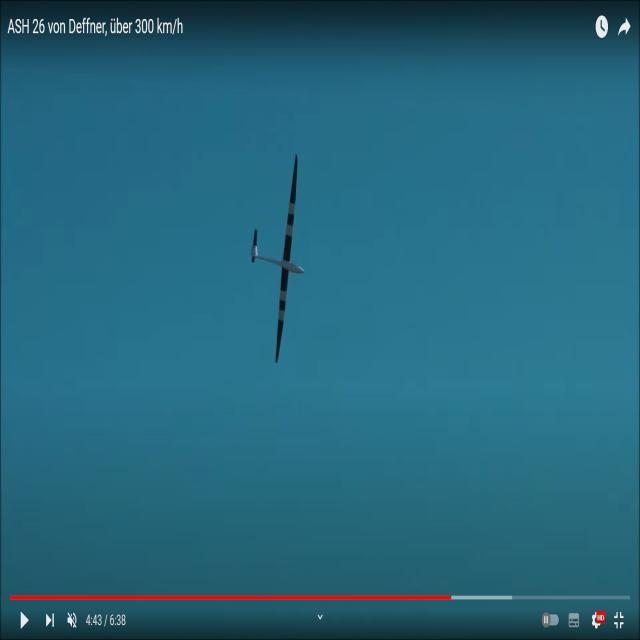iha: (250, 161, 308, 359)
